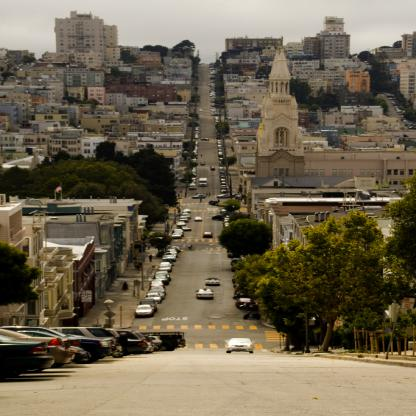Car: (0, 326, 188, 381), (135, 260, 173, 316), (217, 141, 245, 198), (228, 250, 256, 307), (210, 62, 220, 138), (226, 336, 254, 356), (189, 140, 197, 190), (212, 208, 231, 229), (174, 210, 188, 237), (194, 289, 216, 300), (164, 247, 177, 261), (206, 278, 219, 287), (225, 203, 238, 209), (192, 194, 205, 199), (194, 125, 199, 138), (193, 216, 202, 221), (215, 202, 226, 206), (204, 233, 214, 237), (201, 137, 210, 140), (198, 108, 204, 112), (198, 64, 202, 66), (202, 62, 206, 64), (196, 218, 203, 219)
